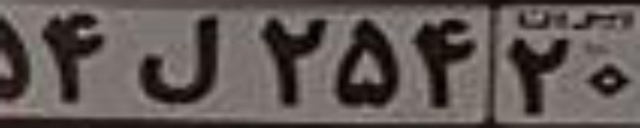0: (584, 62, 632, 98)
2: (260, 18, 322, 106), (506, 38, 566, 113)
4: (41, 14, 108, 103), (409, 19, 471, 108)
5: (334, 20, 396, 106), (2, 12, 30, 101)
lam: (139, 13, 216, 104)
